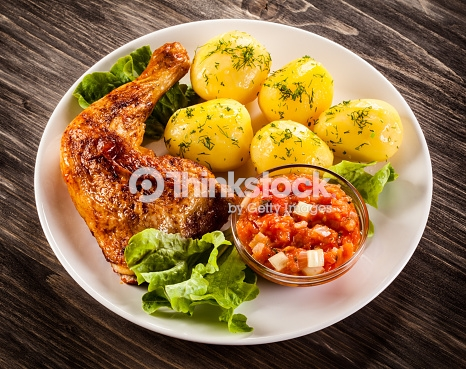boiled potatoes: (194, 51, 365, 162)
